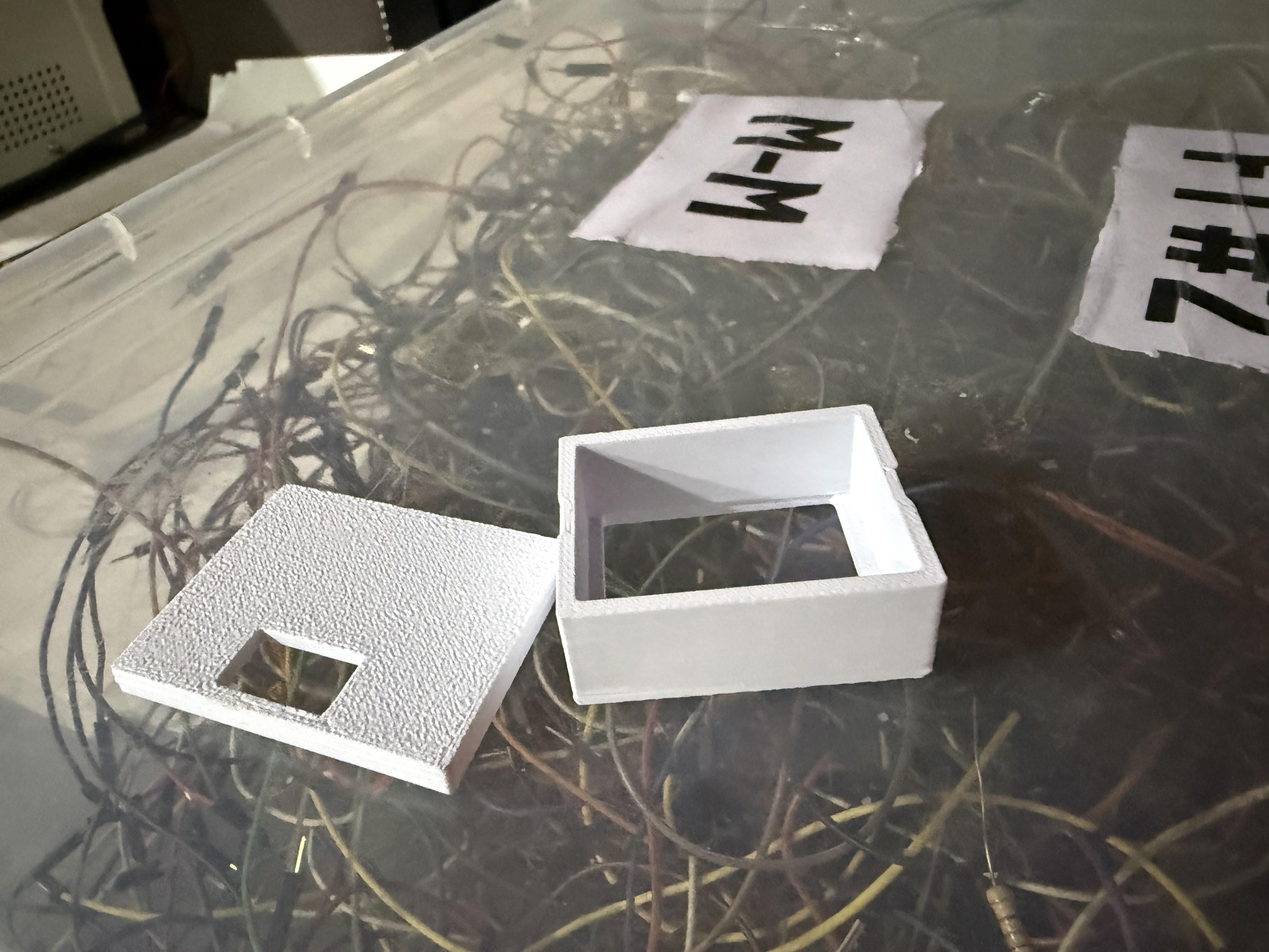enclosure: (110, 404, 947, 795)
